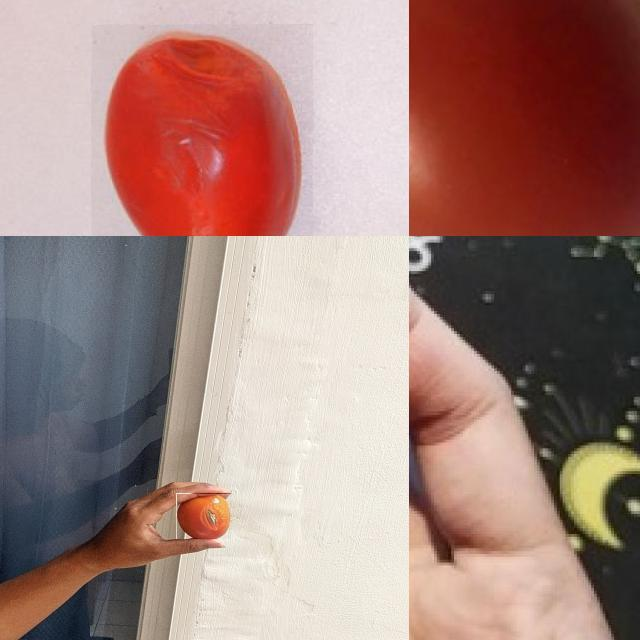Fresh Tomato: (409, 0, 640, 236)
Rotten Tomato: (91, 24, 312, 236), (176, 493, 231, 539)
